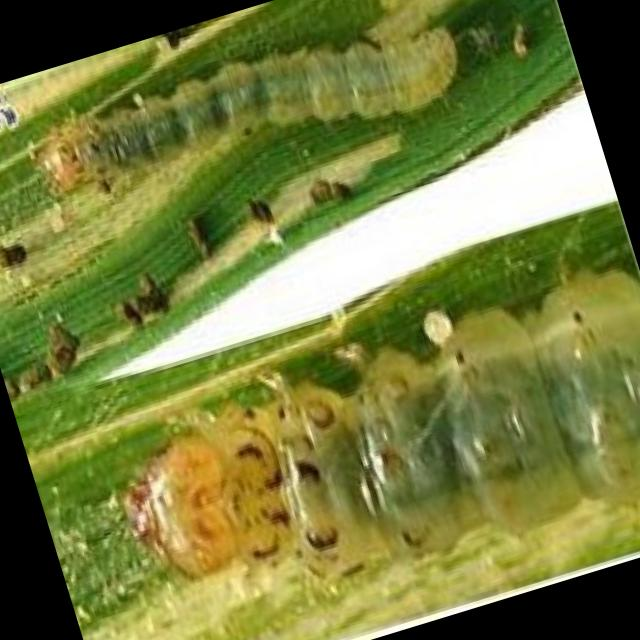leaf-folder: (94, 225, 640, 640), (10, 0, 511, 253)
